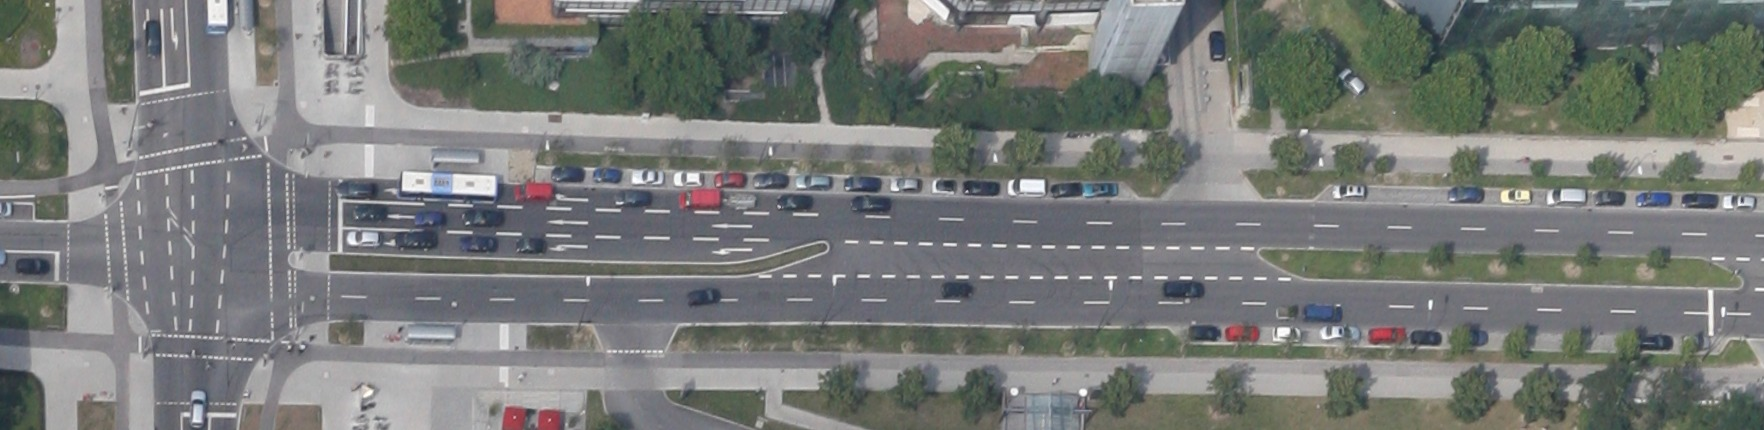car: (1335, 65, 1368, 99), (679, 188, 719, 209), (336, 178, 375, 199), (396, 230, 435, 249), (514, 182, 552, 201), (1546, 186, 1584, 205), (1303, 304, 1342, 322), (462, 209, 502, 227), (1318, 324, 1360, 341), (850, 194, 889, 212), (1008, 178, 1044, 197), (614, 189, 650, 207), (776, 192, 812, 210), (353, 201, 387, 221), (188, 389, 205, 428), (1162, 281, 1203, 297), (15, 257, 49, 275), (346, 229, 381, 247), (686, 287, 719, 306), (1368, 326, 1404, 343), (145, 20, 161, 59), (459, 235, 497, 251), (1447, 185, 1482, 201), (1721, 192, 1753, 210), (843, 176, 879, 191), (940, 280, 972, 298), (630, 168, 663, 185), (1681, 192, 1716, 208), (963, 179, 998, 195), (751, 172, 786, 188), (1207, 30, 1225, 61), (1640, 332, 1671, 350), (1188, 323, 1219, 340), (1410, 328, 1441, 344), (673, 169, 702, 187), (1331, 183, 1363, 199), (1226, 324, 1258, 340), (551, 165, 583, 181), (1635, 191, 1668, 206), (795, 174, 829, 189), (728, 192, 755, 210), (515, 238, 546, 253), (889, 176, 919, 191), (714, 171, 745, 187), (414, 210, 443, 226), (1271, 325, 1300, 341), (1500, 187, 1529, 203), (1083, 181, 1116, 195), (1594, 189, 1623, 204), (1051, 181, 1080, 196), (592, 167, 619, 182), (931, 177, 953, 192), (1275, 305, 1296, 319)
